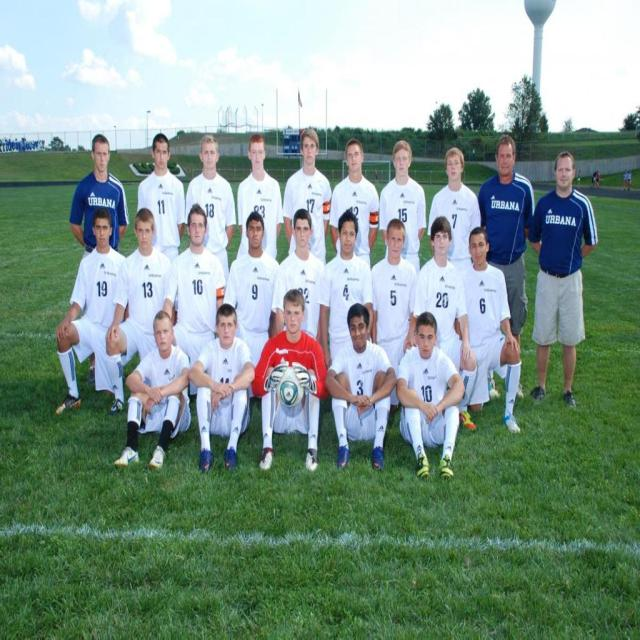Face: (86, 125, 118, 187), (214, 301, 242, 353), (243, 137, 272, 180), (550, 153, 577, 198), (429, 223, 454, 270), (151, 135, 175, 183), (349, 304, 373, 352), (497, 133, 519, 184), (384, 220, 408, 265), (135, 212, 159, 256), (198, 139, 221, 183), (282, 297, 306, 339), (445, 148, 469, 190), (154, 319, 181, 356), (293, 214, 313, 262), (393, 137, 413, 185), (339, 216, 360, 261), (245, 212, 267, 254), (345, 140, 367, 182), (90, 221, 113, 258), (298, 132, 319, 170), (189, 212, 207, 254), (418, 323, 438, 360), (468, 240, 490, 273)
